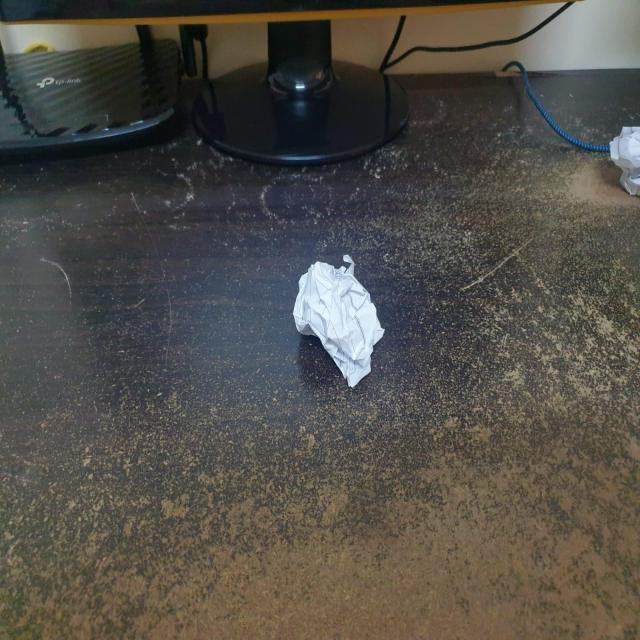cardboard paper: (292, 254, 382, 385), (608, 126, 638, 194)
